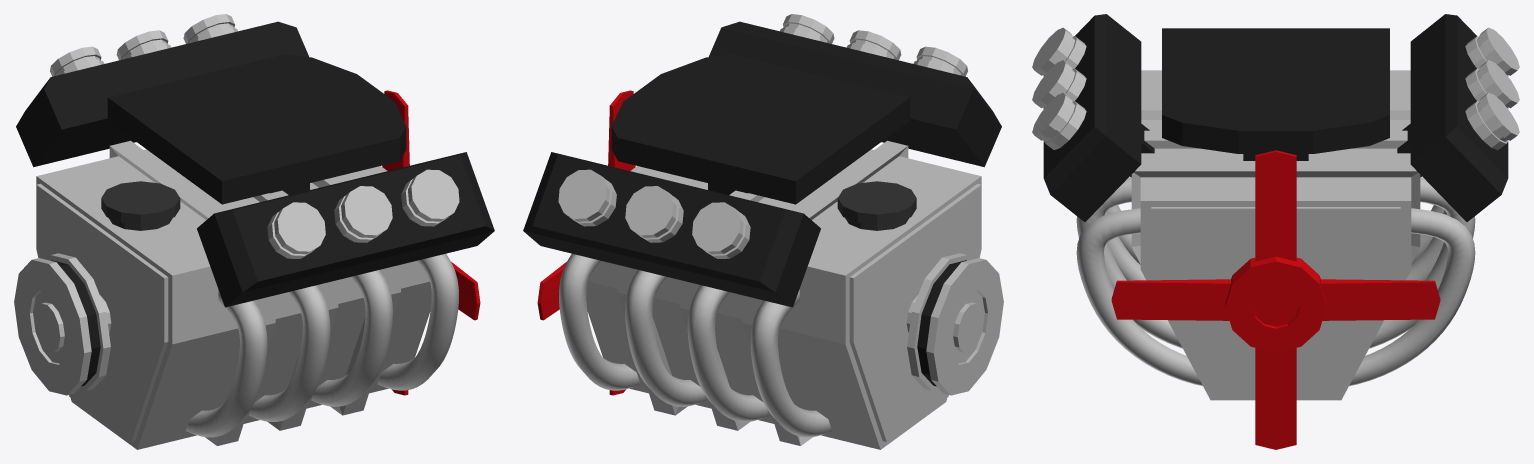
File: Engine.fbx
3 views of the same model, side by side, from view 1: azimuth 30°, elevation 25°; view 2: azimuth 150°, elevation 25°; view 3: azimuth 270°, elevation 25° (orthographic).
Parts seen in each view (by area): view 1: Cube.003, Cube.015, Cube.007, Cylinder.021, Cylinder.012, NurbsPath.010, NurbsPath.011, NurbsPath.008, NurbsPath.009, Cylinder.011, Cylinder.013, Cylinder.018 (+1 smaller); view 2: Cube.003, Cube.015, Cube.007, Cylinder.021, Cylinder.012, NurbsPath.010, NurbsPath.011, NurbsPath.008, NurbsPath.009, Cylinder.011, Cylinder.013, Cylinder.018 (+1 smaller); view 3: Cube.003, Cube.007, Cube.015, NurbsPath.011, Cylinder.021, Cylinder.018, Cylinder.010, Cylinder.009, NurbsPath.009, NurbsPath.008, NurbsPath.010.
Part boxes in pixels (box(x1,y1,x2,y2)): Cube.003: box(36, 140, 431, 449); Cube.015: box(16, 21, 494, 307); Cube.007: box(107, 54, 406, 204); Cylinder.021: box(50, 14, 459, 258); Cylinder.012: box(14, 253, 111, 395); NurbsPath.010: box(186, 289, 267, 437); NurbsPath.011: box(377, 253, 458, 390); NurbsPath.008: box(248, 285, 330, 421); NurbsPath.009: box(311, 270, 392, 406); Cylinder.011: box(101, 181, 180, 230); Cylinder.013: box(51, 260, 100, 386); Cylinder.018: box(451, 262, 480, 320); Cube.003: box(586, 140, 981, 449); Cube.015: box(523, 21, 1001, 307); Cube.007: box(611, 54, 910, 204); Cylinder.021: box(558, 14, 967, 258); Cylinder.012: box(906, 253, 1003, 395); NurbsPath.010: box(750, 289, 831, 437); NurbsPath.011: box(559, 253, 640, 390); NurbsPath.008: box(687, 285, 769, 421); NurbsPath.009: box(625, 270, 706, 406); Cylinder.011: box(837, 181, 916, 230); Cylinder.013: box(917, 260, 966, 386); Cylinder.018: box(537, 262, 566, 320); Cube.003: box(1131, 70, 1420, 400); Cube.007: box(1162, 28, 1389, 160); Cube.015: box(1043, 14, 1508, 221); NurbsPath.011: box(1076, 208, 1475, 386); Cylinder.021: box(1032, 27, 1519, 150); Cylinder.018: box(1111, 279, 1440, 320); Cylinder.010: box(1255, 150, 1296, 449); Cylinder.009: box(1225, 256, 1326, 352); NurbsPath.009: box(1076, 177, 1475, 348); NurbsPath.008: box(1105, 210, 1446, 280); NurbsPath.010: box(1107, 205, 1444, 264).
Bounding box in the file's own units: 670 × 562 × 782.
